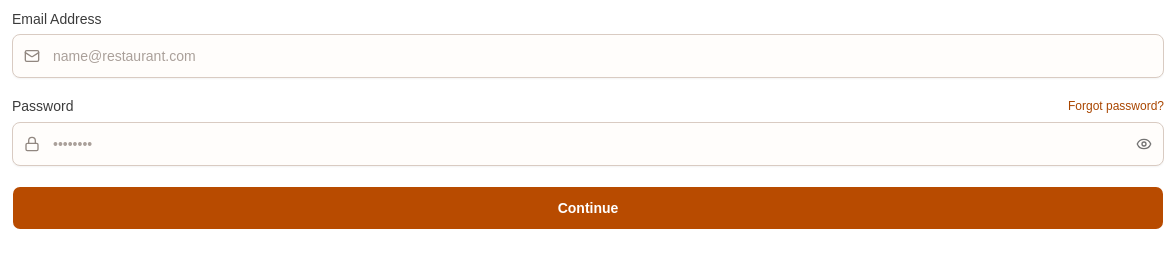
StaffLoginForm UI Testing › does not submit when email is invalid
This screenshot has width=1176, height=270.
Type "invalid-email" into the field with placeholder "name@restaurant.com" at (588, 56), box x1=12 y1=34 x2=1164 y2=78
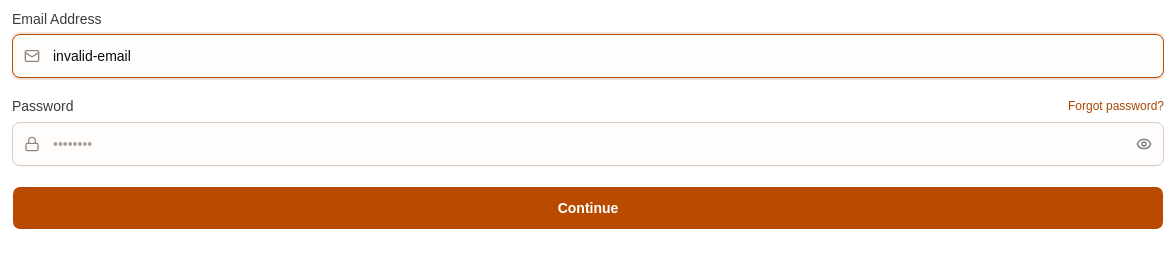
Type "password123" into the password field with placeholder "••••••••" at (588, 144), box x1=12 y1=122 x2=1164 y2=166
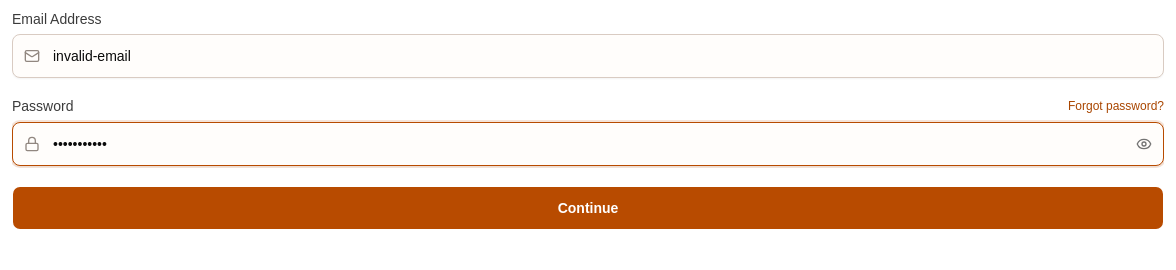
Click the button "Continue" at (588, 208), box x1=12 y1=186 x2=1164 y2=230
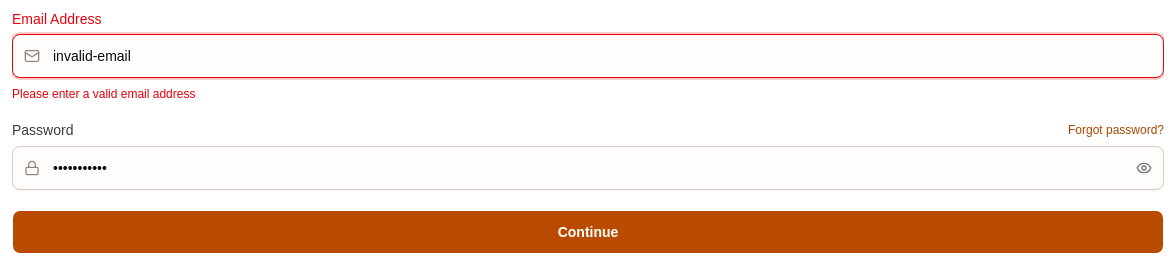
Now the message "Please enter a valid email address" is shown, box x1=12 y1=87 x2=195 y2=101
